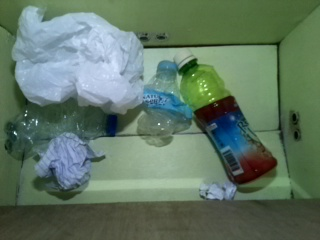bottle: (172, 47, 280, 187)
damaged-bottle: (5, 100, 119, 159), (136, 60, 192, 147)
paper: (35, 131, 106, 191), (200, 181, 236, 200)
plastic-bag: (11, 5, 145, 118)
